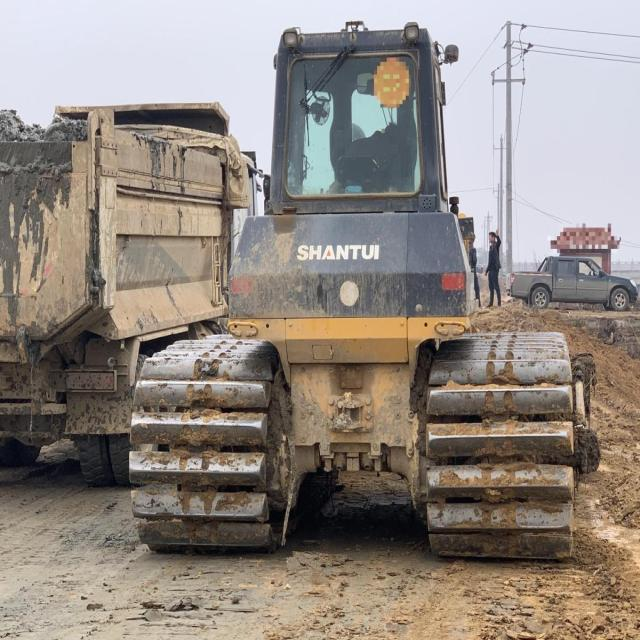machinery: (114, 15, 595, 581)
truck: (0, 84, 278, 495)
